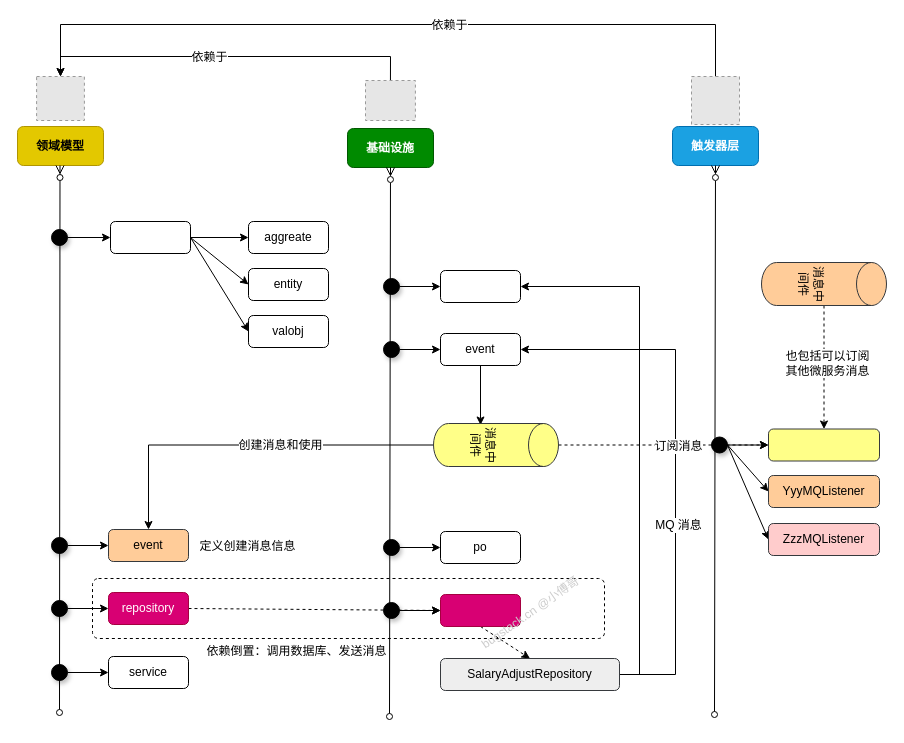
Some shapes in this 904 by 743 pixel diagram are drawn without their labels. Grey dashed boxes stand in for pictures. Here are the shapes that lost their labels. From the top down, the centre of each, then its label:
At point 150,237: "model".
At point 480,286: "dao".
At point 824,444: "XxxMQListener".
At point 480,610: "repositoty".
